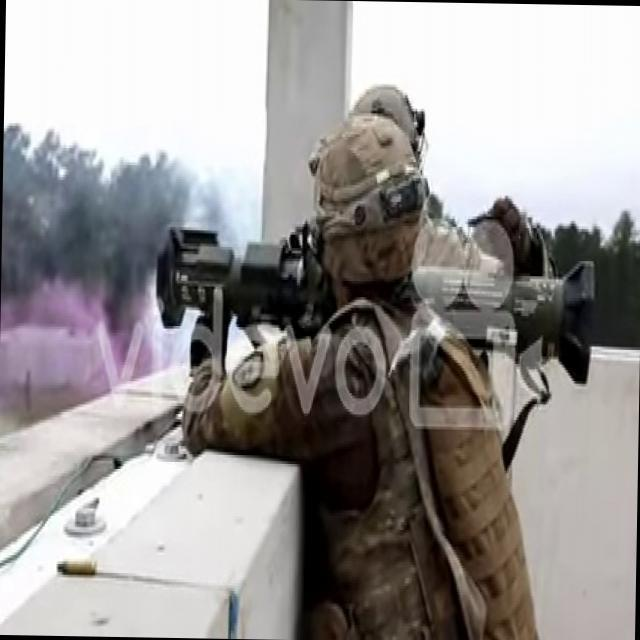rocket: (156, 220, 596, 393)
